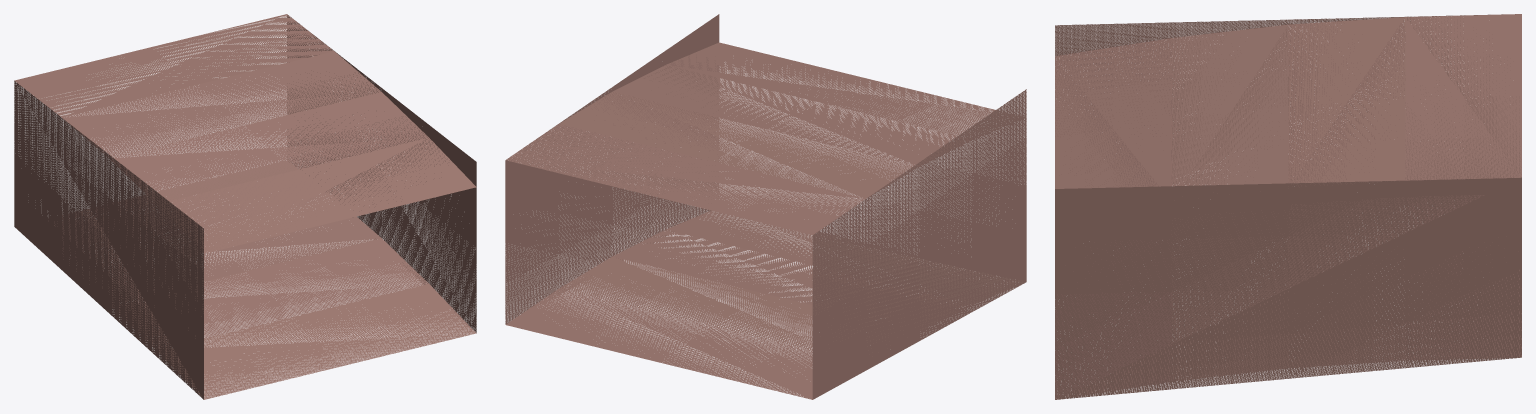
File: SW_ENV_RailTunnel_Riser_B_Double_10m_Collision.fbx
3 views of the same model, side by side, from view 1: azimuth 30°, elevation 25°; view 2: azimuth 150°, elevation 25°; view 3: azimuth 270°, elevation 25° (orthographic). The views are drawn at different scales.
Visible parts, largest first — view 1: SW_ENV_RailTunnel_Riser_B_Double_10m_Collision; view 2: SW_ENV_RailTunnel_Riser_B_Double_10m_Collision; view 3: SW_ENV_RailTunnel_Riser_B_Double_10m_Collision.
Part boxes in pixels (box(x1,y1,x2,y2)): SW_ENV_RailTunnel_Riser_B_Double_10m_Collision: box(14, 14, 476, 399); SW_ENV_RailTunnel_Riser_B_Double_10m_Collision: box(505, 14, 1026, 399); SW_ENV_RailTunnel_Riser_B_Double_10m_Collision: box(1055, 14, 1521, 399).
Bounding box in the file's own units: 830 × 525 × 1000.
